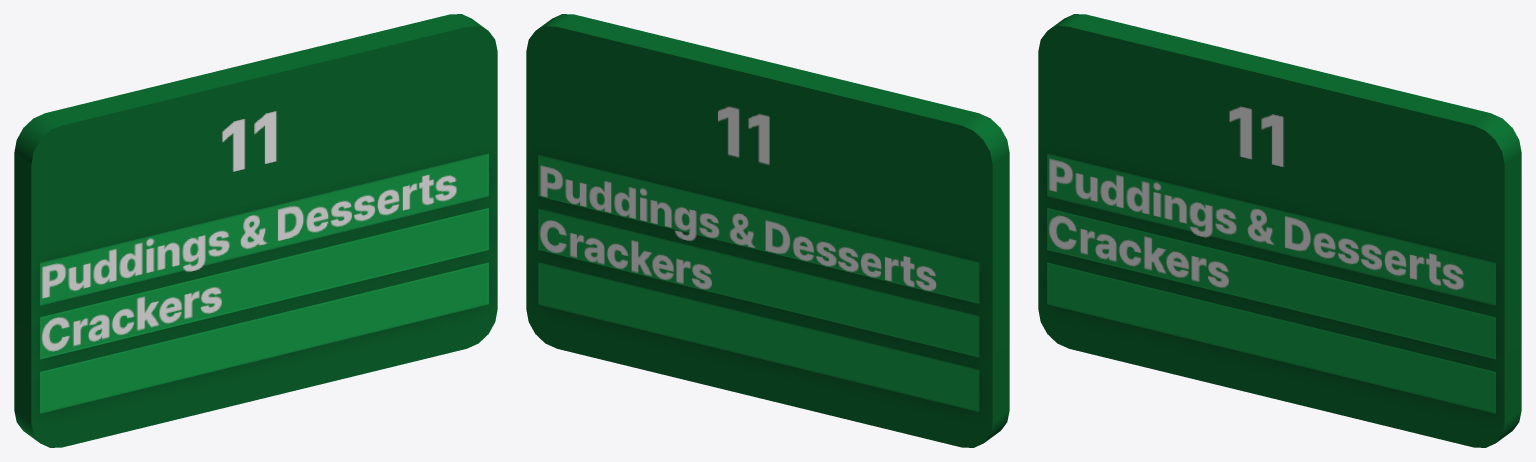
File: aisle11.fbx
The picture shows the model from 3 angles, left to right: view 1: azimuth 30°, elevation 25°; view 2: azimuth 150°, elevation 25°; view 3: azimuth 330°, elevation 25°; orthographic projection.
Parts seen in each view (by area): view 1: pCube1; view 2: pCube1; view 3: pCube1.
Part boxes in pixels (box(x1,y1,x2,y2)): pCube1: box(14, 14, 497, 447); pCube1: box(526, 14, 1009, 447); pCube1: box(1038, 14, 1521, 447).
Size of the model in its own units: 15.9 by 10.49 by 1.
